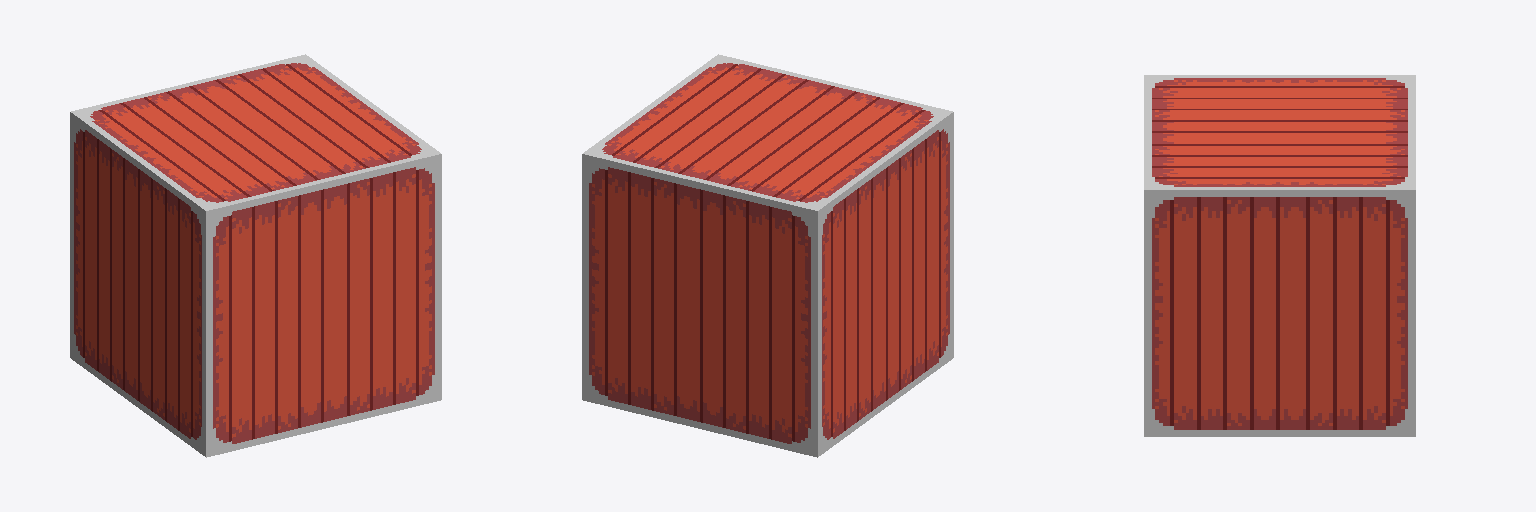
The picture shows the model from 3 angles: view 1: azimuth 30°, elevation 25°; view 2: azimuth 150°, elevation 25°; view 3: azimuth 270°, elevation 25°; orthographic projection.
Visible parts, largest first — view 1: GameObject_house_textured_red_cube.002; view 2: GameObject_house_textured_red_cube.002; view 3: GameObject_house_textured_red_cube.002.
Boxes of the visible parts, <box> form: GameObject_house_textured_red_cube.002: <box>70,54,441,457</box>; GameObject_house_textured_red_cube.002: <box>582,54,953,457</box>; GameObject_house_textured_red_cube.002: <box>1144,75,1415,436</box>.
Size of the model in its own units: 7.2 by 7.2 by 7.2.
1 materials, 1 textured.